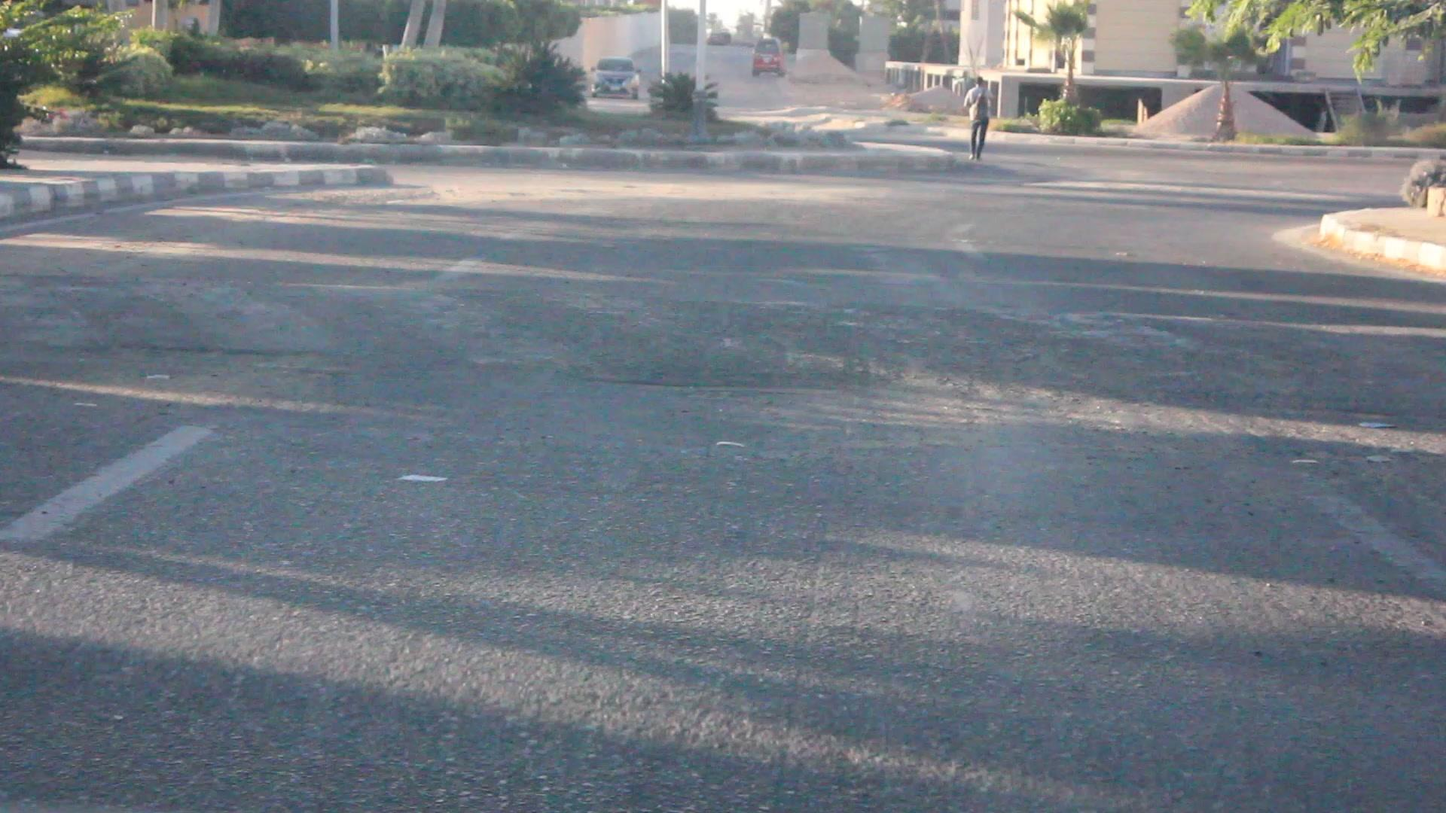Bump: (0, 269, 1446, 397)
